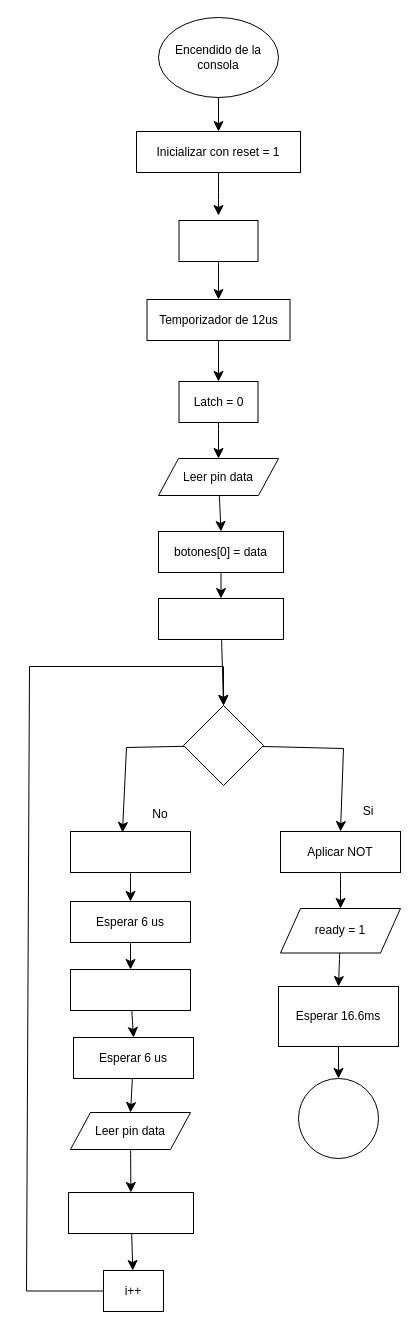
Some shapes in this 418 by 1329 pixel diagram are drawn without their labels. The shapes that lost their labels are listed below. From the top down, each one's box as (x1, y1, x2, y2) in pixels, then its label:
(178, 220, 258, 262): Latch = 1
(158, 598, 284, 640): i = 1
(182, 704, 264, 786): i <= 7?
(70, 830, 190, 872): clock = 0
(70, 968, 190, 1010): clock = 1
(298, 1078, 378, 1158): Byte listo
(68, 1192, 194, 1234): botones[i] = data
